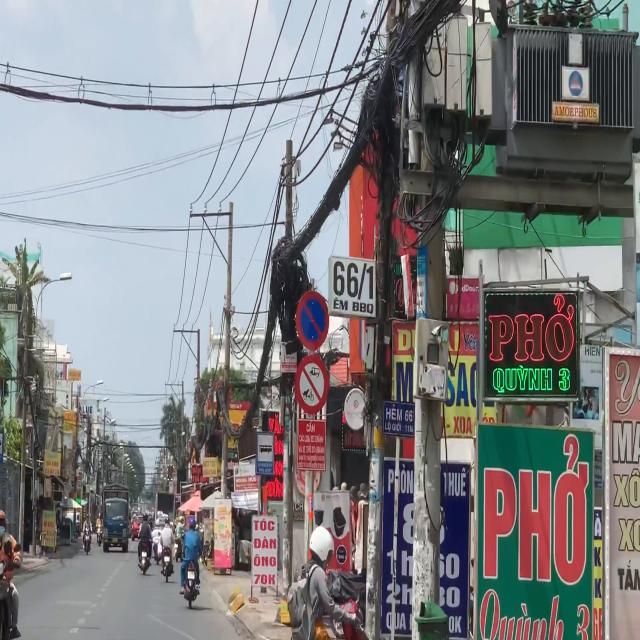Ben xe buyt: (256, 430, 274, 476)
Cam con lai: (294, 354, 328, 413)
Cam do: (295, 290, 328, 350)
